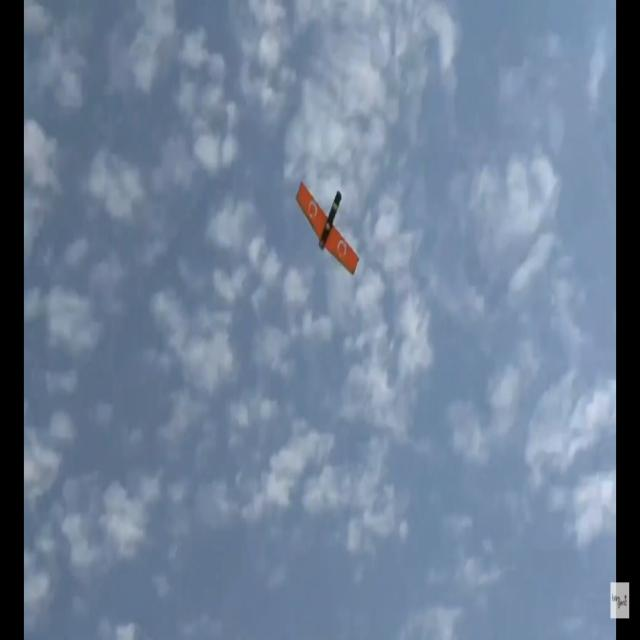iha: (319, 205, 324, 248)
